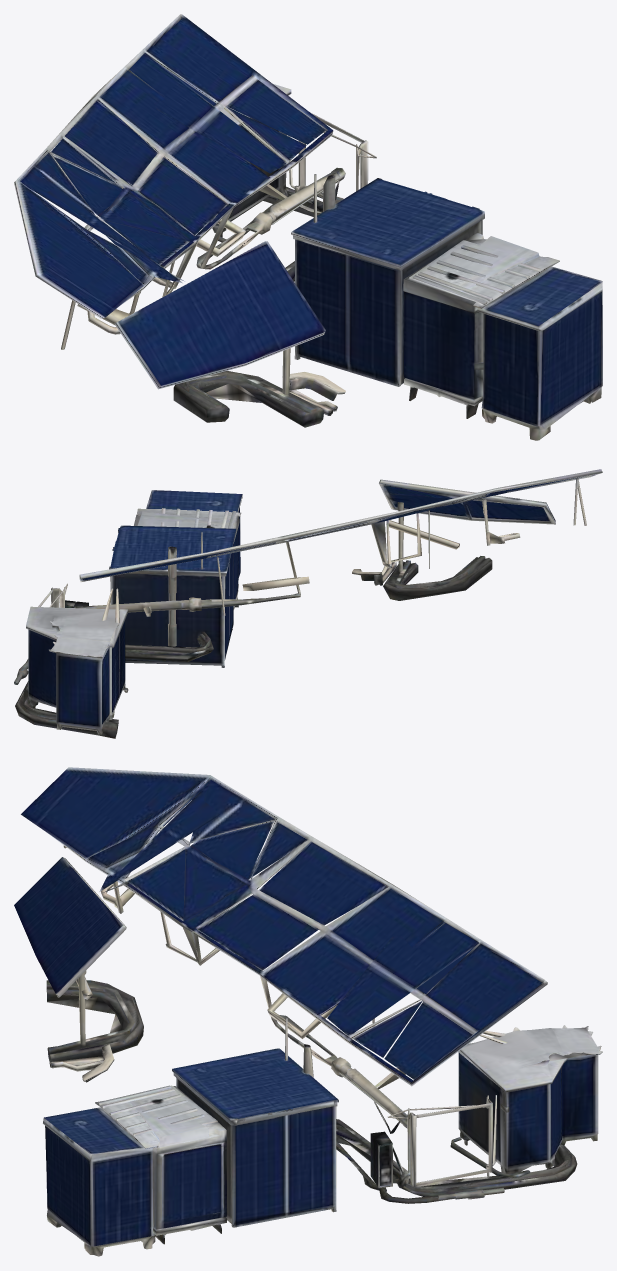
Rendered from solar_farm.glb.
3 renders of one model, top to bottom at view 1: azimuth 30°, elevation 25°; view 2: azimuth 150°, elevation 25°; view 3: azimuth 270°, elevation 25°, orthographic. The views are drawn at different scales.
Visible parts, largest first — view 1: Body; view 2: Body; view 3: Body.
Part boxes in pixels (left/top/right/bottom): Body: left=14, top=14, right=602, bottom=440; Body: left=14, top=469, right=602, bottom=738; Body: left=14, top=767, right=602, bottom=1256.
Size of the model in its own units: 15.76 by 7.76 by 15.78.
Materials: 1 (1 with a texture image).
